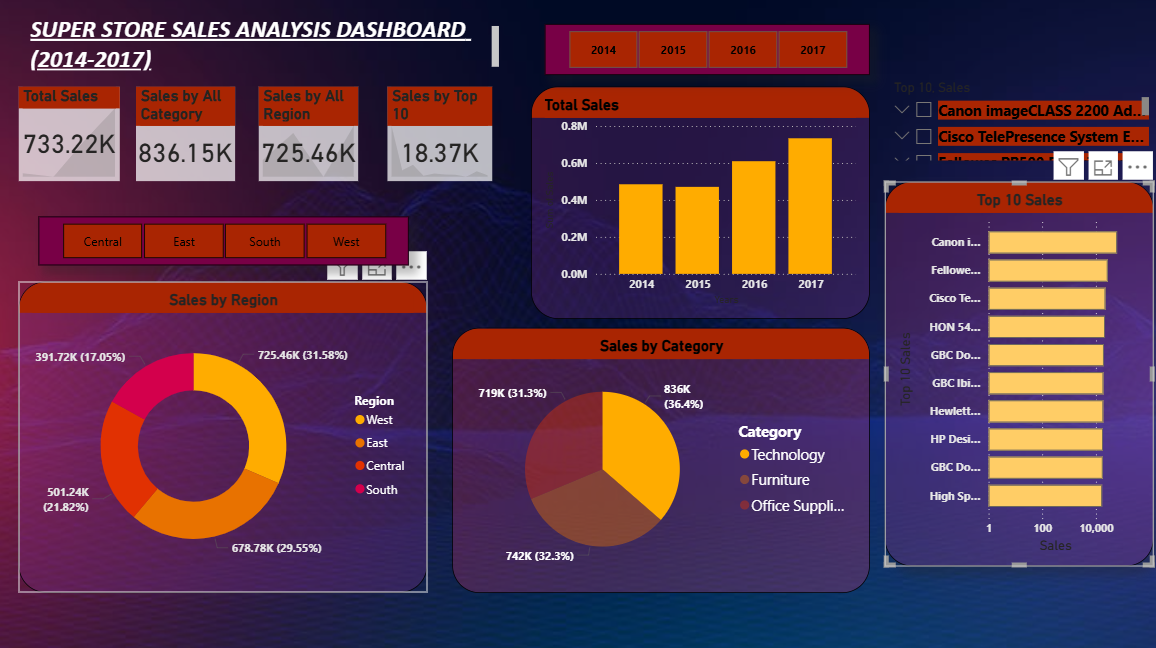

This screenshot's page, from the dashboard's own definition file:
{"tool":"powerbi","page":{"name":"Page 1","canvas":[1280,720],"ordinal":0},"visuals":[{"type":"textbox","box":[32.9,24.7,524.2,64.5],"z":0},{"type":"columnChart","title":"Total Sales ","fields":{"Y":["Sum(revenue trends. Sales)"],"Category":["revenue trends.Year"]},"box":[587.3,101.5,371.9,255.2],"z":1000},{"type":"clusteredBarChart","title":"Top 10 Sales","fields":{"Category":["Sheet1.Top 10"],"Y":["Sum(Sheet1.Sales)"]},"box":[975.6,205.8,295,422.6],"z":2000},{"type":"pieChart","title":"Sales by Category","fields":{"Category":["Sheet2.Row Labels"],"Y":["Sum(Sheet2.Sum of Sales)"]},"box":[500.9,366.4,458.3,290.9],"z":3000},{"type":"donutChart","title":" Sales by Region","fields":{"Category":["Sheet3.Region"],"Y":["Sum(Sheet3.Sales)"]},"box":[24.7,315.6,448.7,341.7],"z":4000},{"type":"kpi","title":"Total Sales","fields":{"Indicator":["Sum(revenue trends. Sales)"],"TrendLine":["revenue trends.Year"]},"box":[24.7,101.5,111.1,104.3],"z":5000},{"type":"kpi","fields":{"TrendLine":["Sheet2.Row Labels"],"Indicator":["Sum(Sheet2.Sum of Sales)"]},"box":[153.7,101.5,108.4,104.3],"z":6000},{"type":"kpi","title":"Sales by All Region","fields":{"TrendLine":["Sheet3.Region"],"Indicator":["Sum(Sheet3.Sales)"]},"box":[288.2,101.5,109.8,104.3],"z":7000},{"type":"slicer","fields":{"Values":["revenue trends.Year"]},"box":[602.4,32.9,356.8,56.3],"z":8000},{"type":"slicer","fields":{"Values":["Sheet3.Region"]},"box":[46,244.3,406.2,53.5],"z":9000},{"type":"slicer","fields":{"Values":["Sheet1.Top 10","Sheet1.Sales"]},"box":[972.9,89.2,297.8,98.8],"z":10000},{"type":"kpi","title":"Sales by Top 10","fields":{"Indicator":["Sum(Sheet1.Sales)"],"TrendLine":["Sheet1.Top 10"]},"box":[429.5,101.5,115.3,104.3],"z":11000}]}

Visuals, with their boxes in screenshot pixels (x1, y1, x2, y2), scaled from the page's 1280x720 canvas onto the 1156x648 screenshot:
textbox: 30/22/503/80
"Total Sales " columnChart: 530/91/866/321
"Top 10 Sales" clusteredBarChart: 881/185/1148/566
"Sales by Category" pieChart: 452/330/866/592
" Sales by Region" donutChart: 22/284/428/592
"Total Sales" kpi: 22/91/123/185
kpi - Sheet2.Row Labels x Sum(Sheet2.Sum of Sales): 139/91/237/185
"Sales by All Region" kpi: 260/91/359/185
slicer - revenue trends.Year: 544/30/866/80
slicer - Sheet3.Region: 42/220/408/268
slicer - Sheet1.Top 10 x Sheet1.Sales: 879/80/1148/169
"Sales by Top 10" kpi: 388/91/492/185
